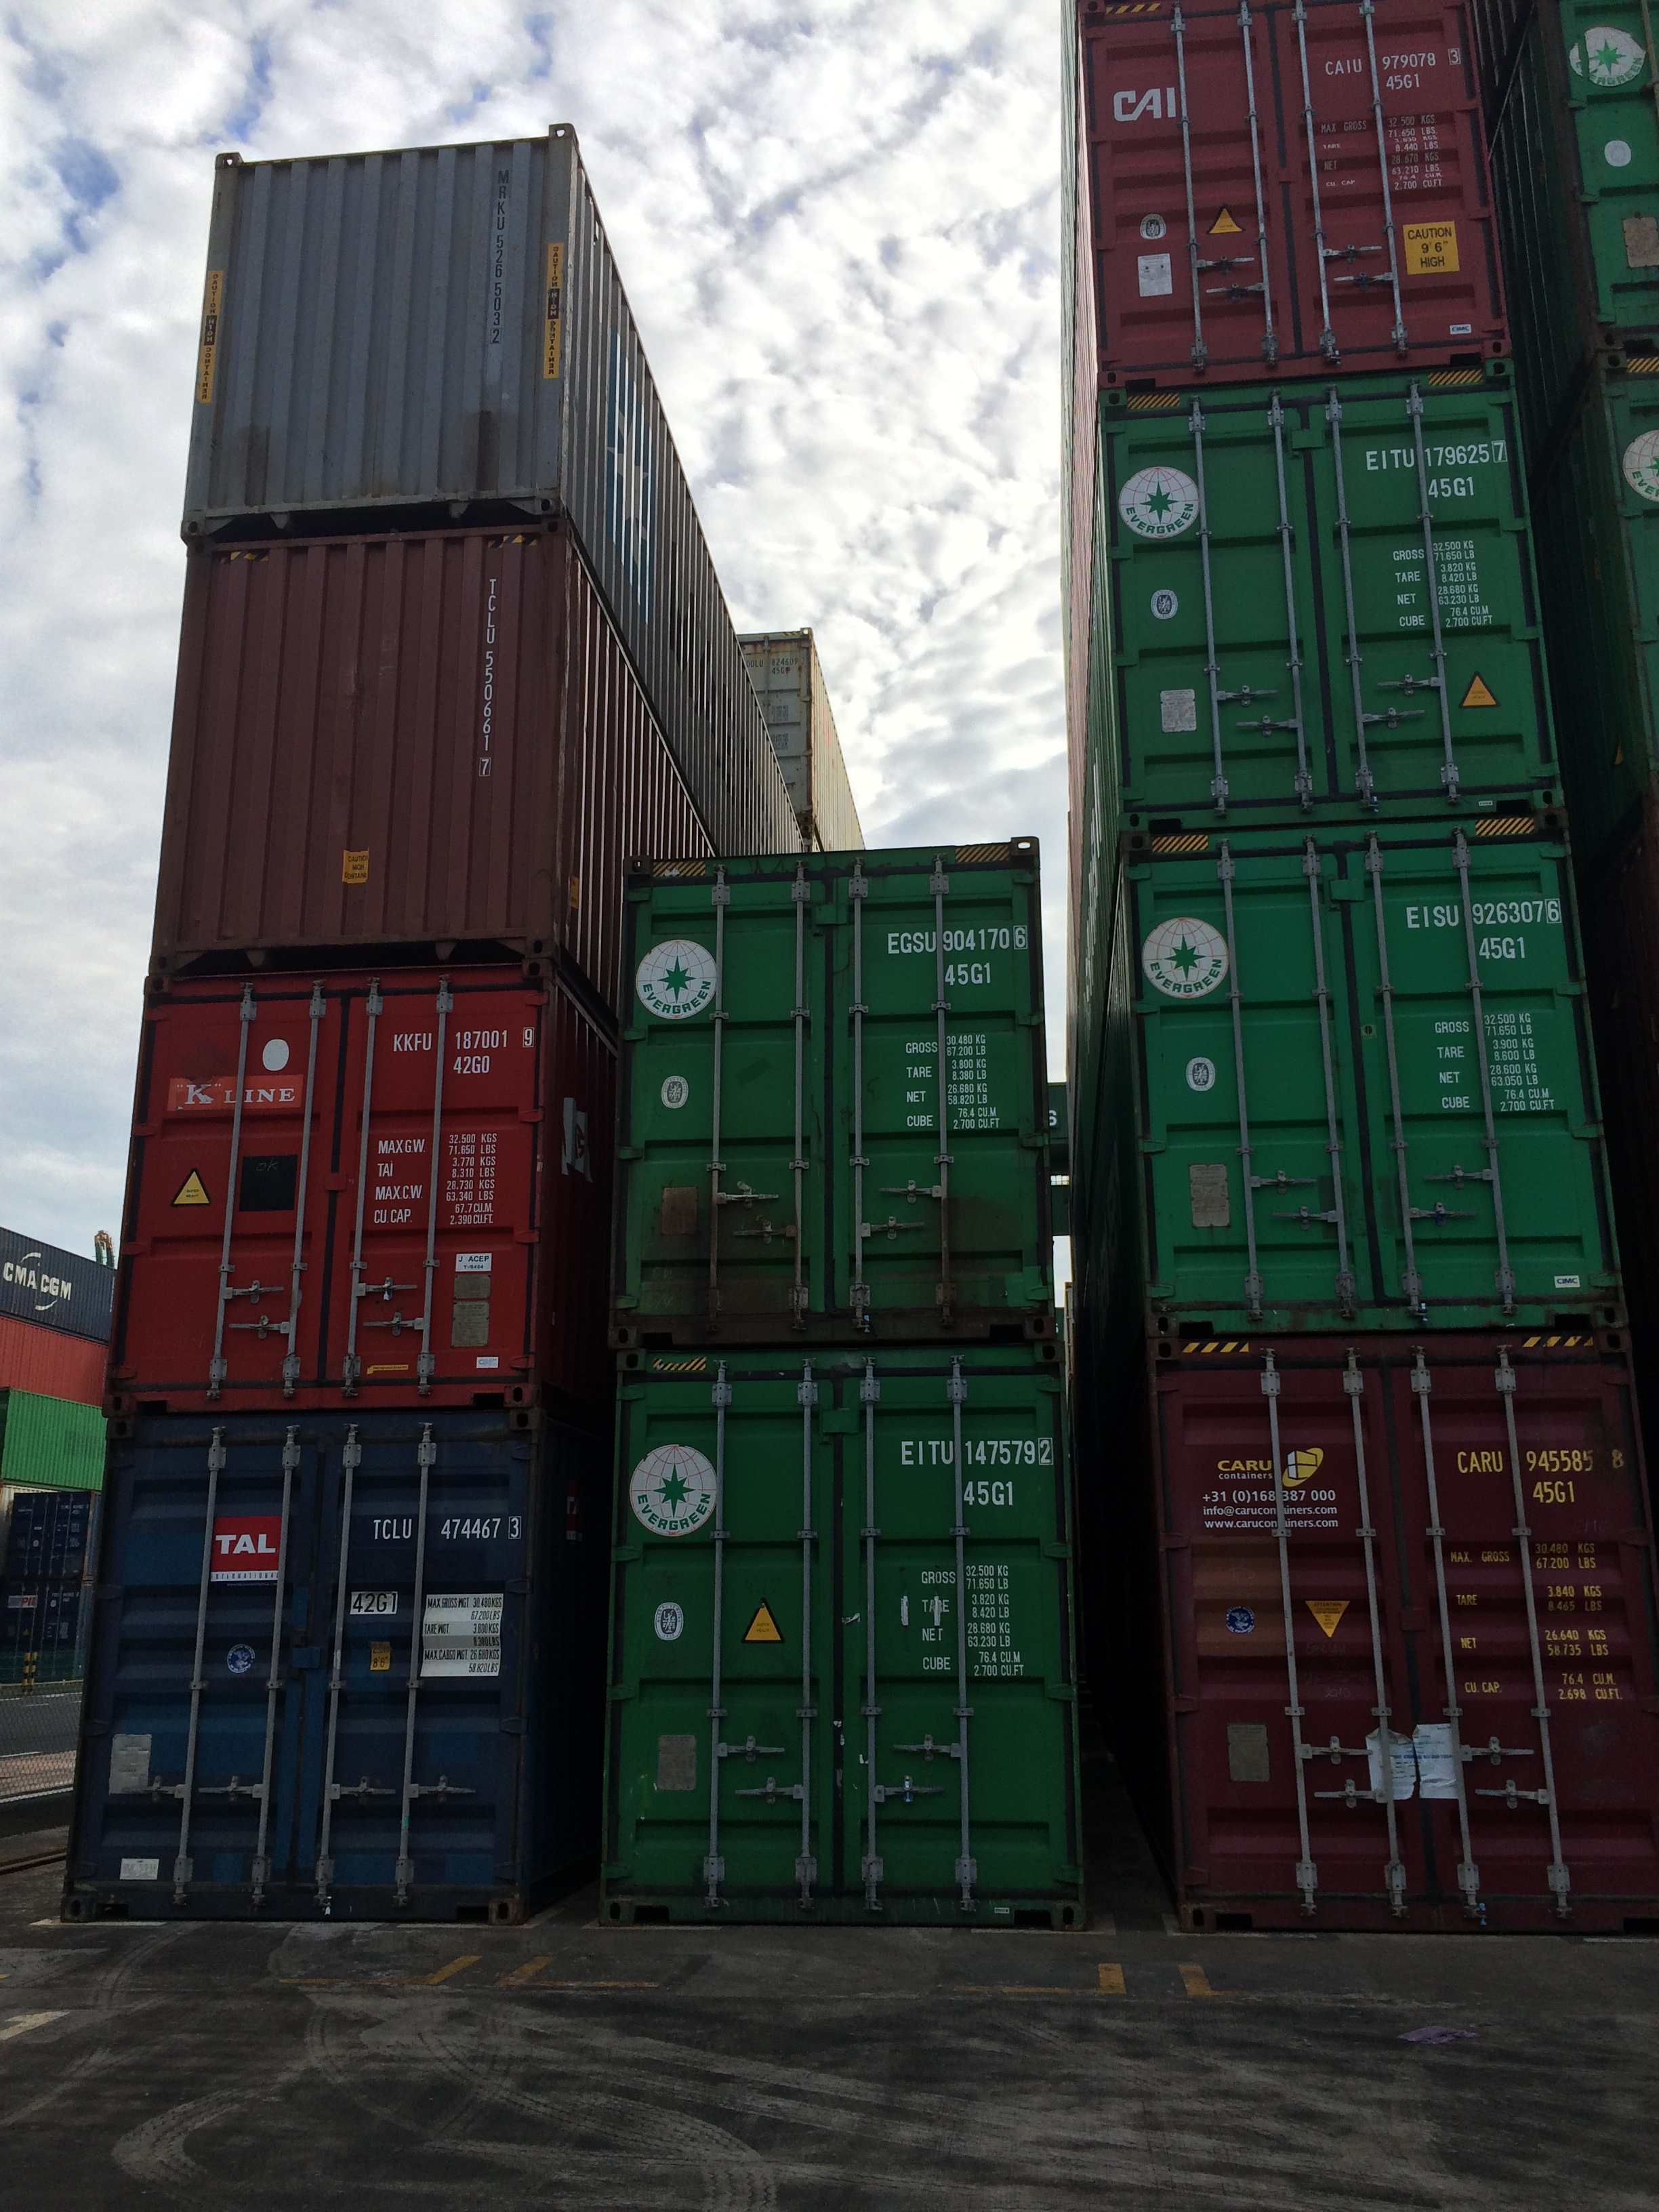container_door: (1140, 1339, 1638, 1937), (594, 1346, 1072, 1925), (1121, 808, 1626, 1327), (51, 1418, 549, 1928), (612, 836, 1042, 1339), (1103, 368, 1568, 820), (98, 984, 542, 1411), (1075, 0, 1500, 392)
container_no_door: (143, 526, 591, 984), (186, 136, 587, 526)
